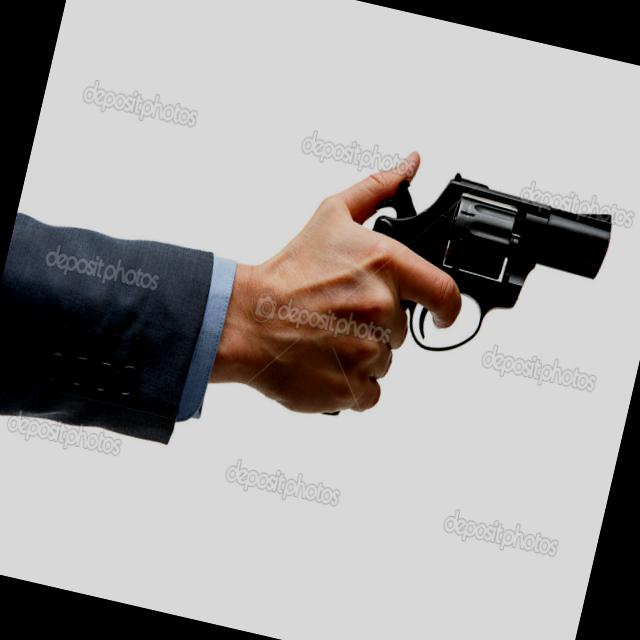handgun: (310, 120, 630, 463)
